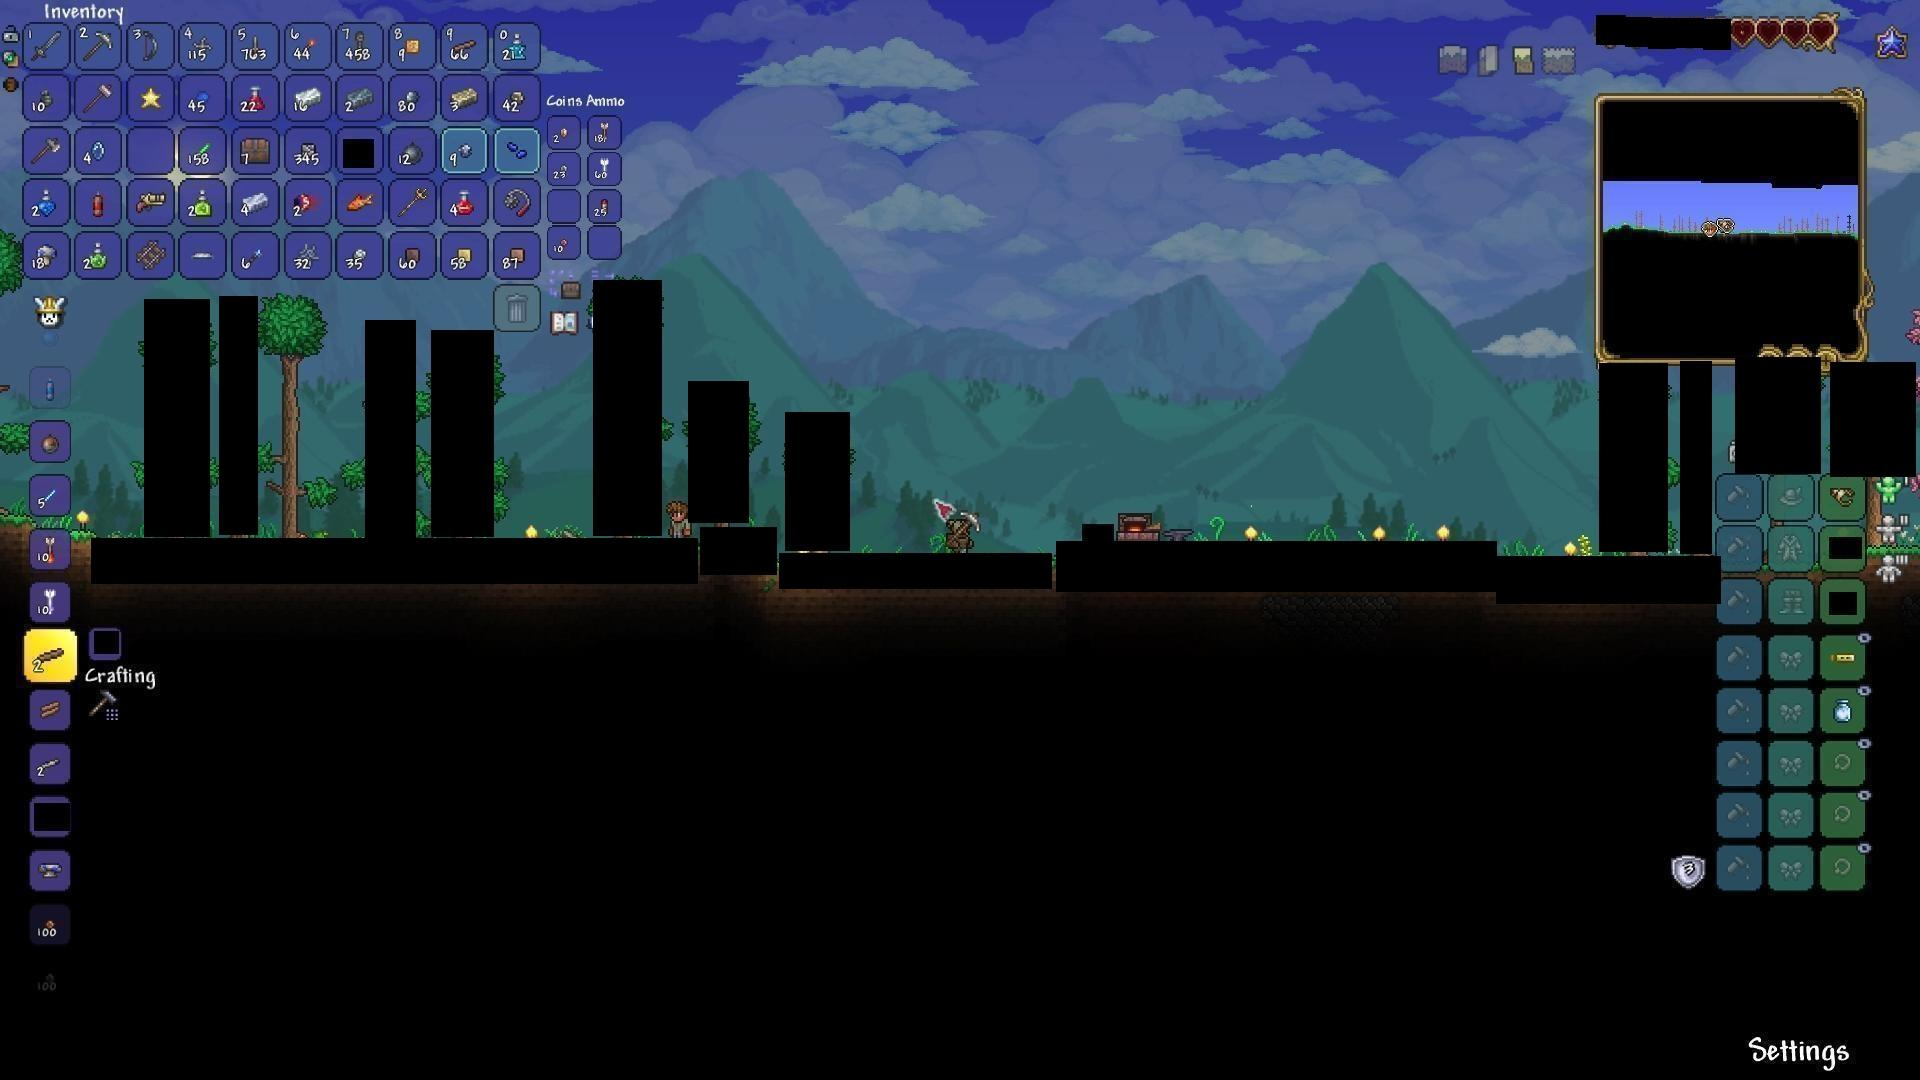tree: (262, 294, 327, 535)
wood: (38, 698, 65, 727)
